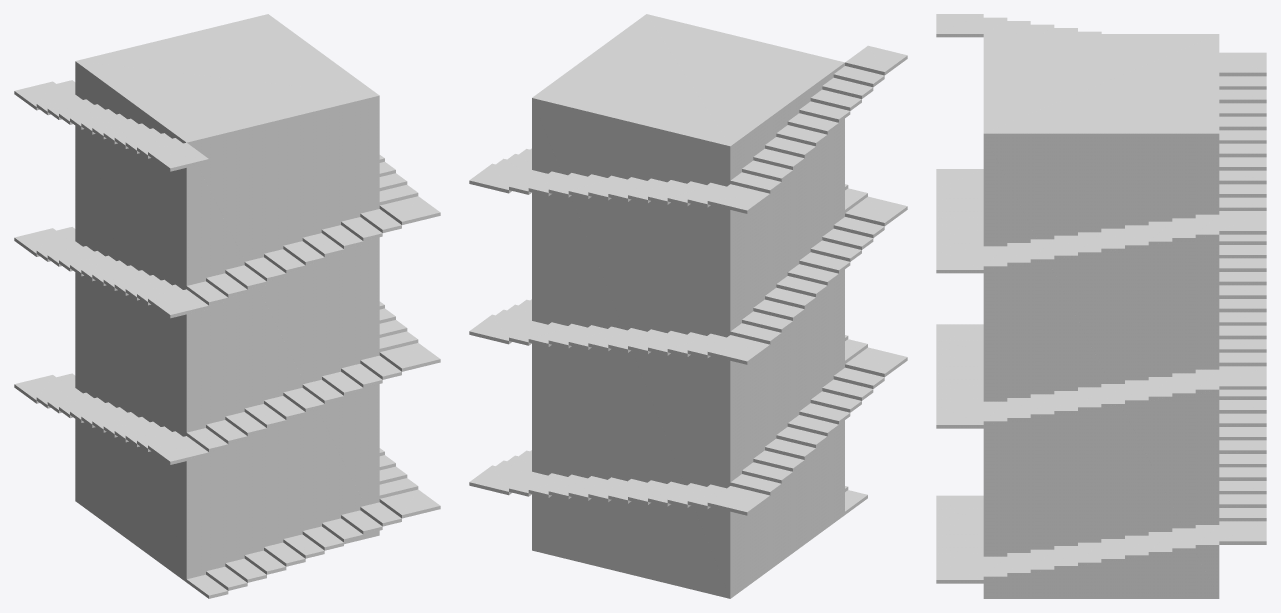
Rendered from taijie.FBX.
3 views of the same model, side by side, from view 1: azimuth 30°, elevation 25°; view 2: azimuth 150°, elevation 25°; view 3: azimuth 270°, elevation 25° (orthographic). The views are drawn at different scales.
Parts seen in each view (by area): view 1: qiang, taijie; view 2: qiang, taijie; view 3: qiang, taijie.
Boxes of the visible parts, left/top/right/bottom form: qiang: left=75, top=14, right=379, bottom=582; taijie: left=14, top=80, right=440, bottom=598; qiang: left=532, top=14, right=844, bottom=598; taijie: left=469, top=45, right=907, bottom=515; qiang: left=983, top=34, right=1219, bottom=598; taijie: left=936, top=14, right=1266, bottom=583.
Size of the model in its own units: 2800 by 4356 by 2800.
